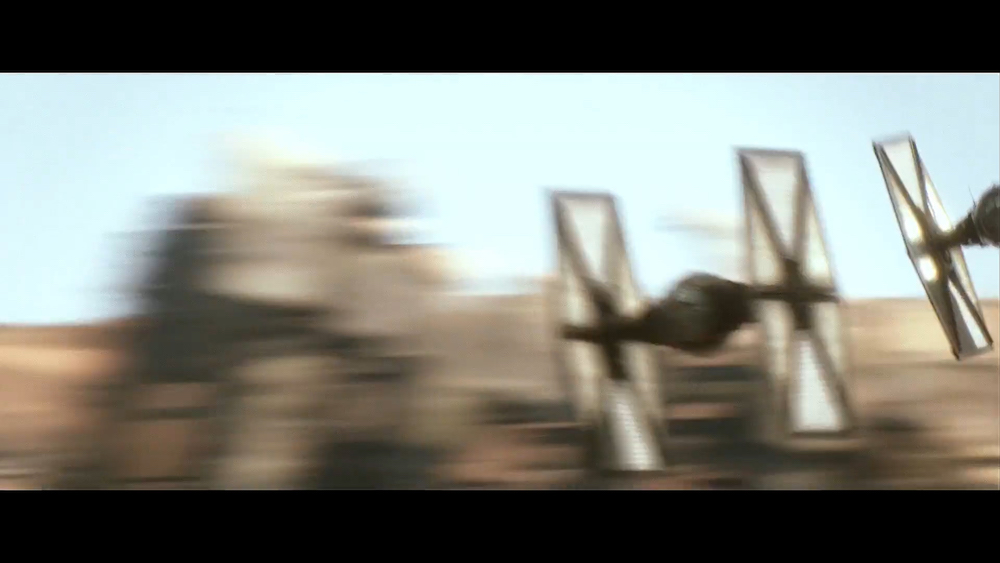Tie Fighter: (548, 148, 860, 477), (871, 132, 1000, 362)
